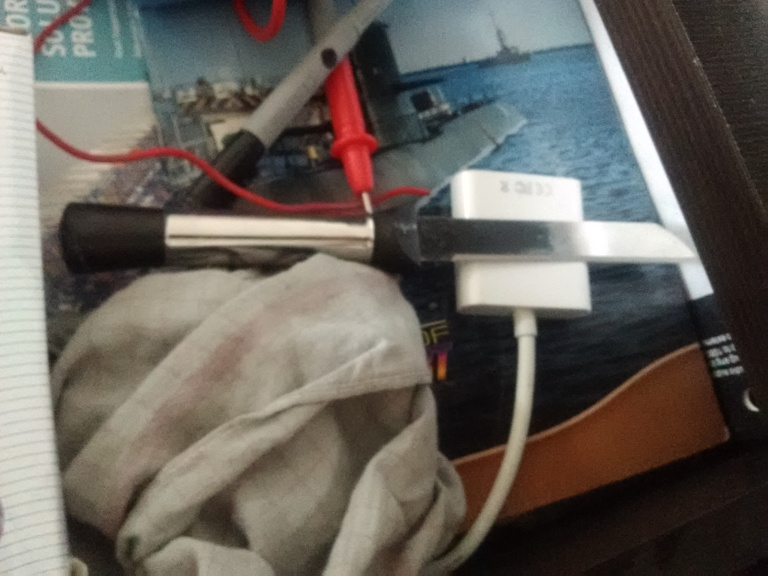knife: (57, 196, 700, 271)
